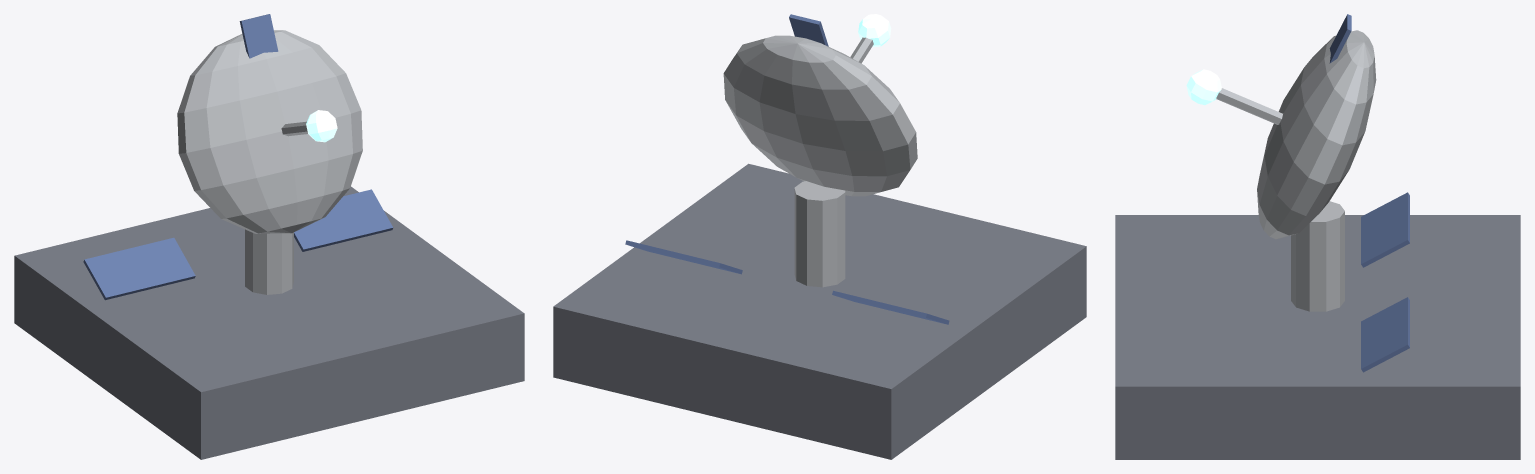
Rendered from human_orbital.glb.
The picture shows the model from 3 angles, left to right: view 1: azimuth 30°, elevation 25°; view 2: azimuth 150°, elevation 25°; view 3: azimuth 270°, elevation 25°; orthographic projection. The views are drawn at different scales.
Parts seen in each view (by area): view 1: human_orbitalMesh, DishMesh, Focus; view 2: human_orbitalMesh, DishMesh, Focus; view 3: human_orbitalMesh, DishMesh, Focus.
Part boxes in pixels (left/top/right/bottom): human_orbitalMesh: left=14, top=186, right=524, bottom=459; DishMesh: left=177, top=14, right=362, bottom=233; Focus: left=306, top=110, right=337, bottom=142; human_orbitalMesh: left=553, top=163, right=1086, bottom=459; DishMesh: left=723, top=14, right=917, bottom=196; Focus: left=858, top=14, right=891, bottom=47; human_orbitalMesh: left=1115, top=192, right=1520, bottom=459; DishMesh: left=1216, top=14, right=1376, bottom=239; Focus: left=1186, top=69, right=1221, bottom=105.
Size of the model in its own units: 1.8 by 1.73 by 1.8.
